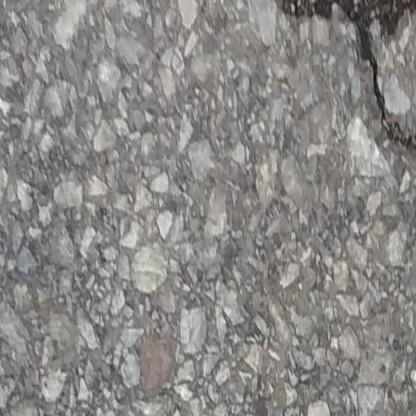Cracks: (267, 0, 416, 191)
